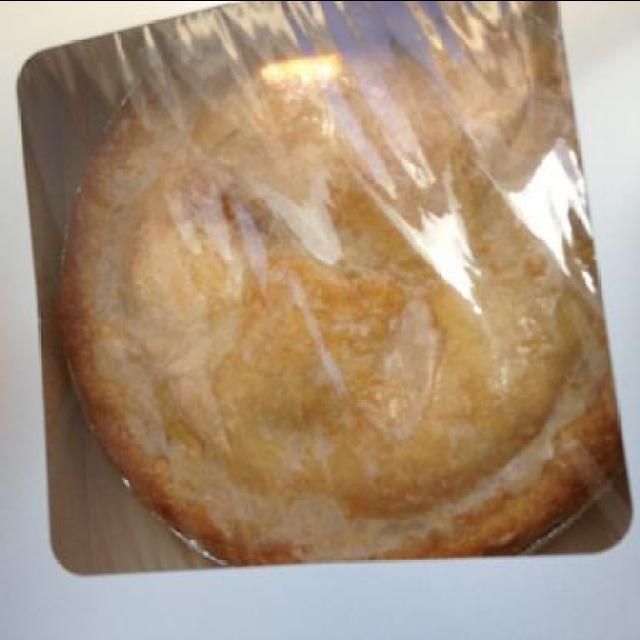Apple: (77, 78, 557, 556)
